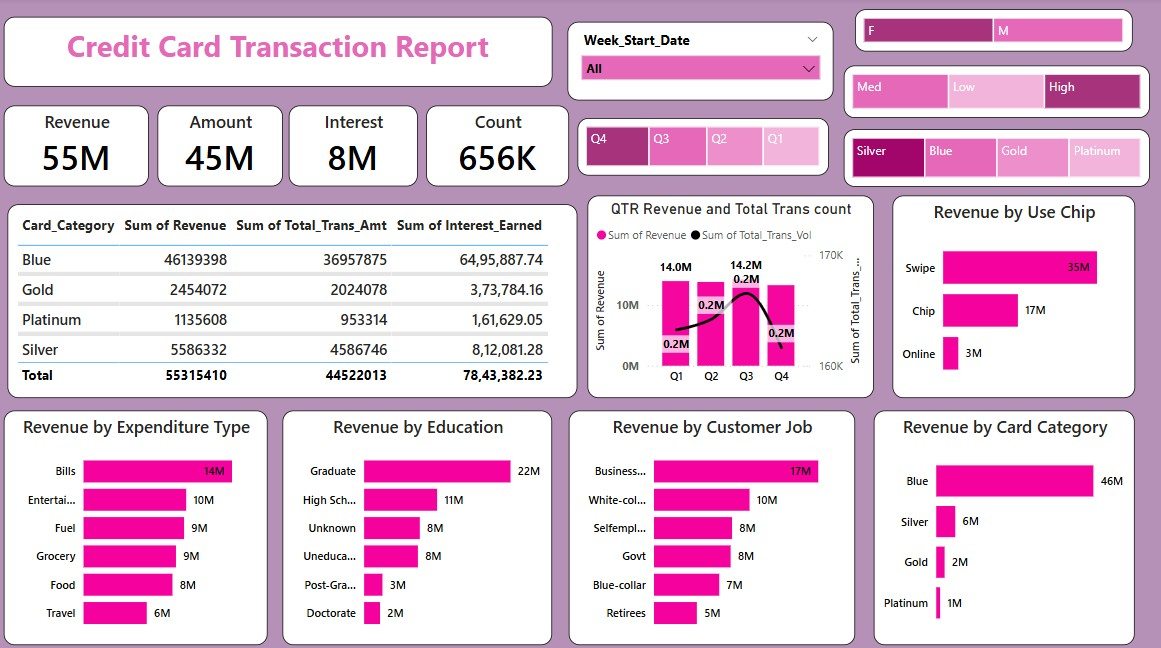

The dashboard page shown, as its layout file describes it:
{"tool":"powerbi","page":{"name":"CC Transaction","canvas":[1280,720],"ordinal":0},"visuals":[{"type":"textbox","box":[9.6,20.6,602.4,76.8],"z":0},{"type":"lineStackedColumnComboChart","title":"QTR Revenue and Total Trans count","fields":{"Category":["credit_card.Qtr"],"Y":["Sum(credit_card.Revenue)"],"Y2":["Sum(credit_card.Total_Trans_Vol)"]},"box":[650.4,216.8,314.2,222.3],"z":1000},{"type":"barChart","title":"Revenue by Expenditure Type","fields":{"Category":["credit_card.Exp Type"],"Y":["Sum(credit_card.Revenue)"]},"box":[9.6,452.8,289.5,258],"z":2000},{"type":"barChart","title":"Revenue by Education","fields":{"Category":["customer.Education_Level"],"Y":["Sum(credit_card.Revenue)"]},"box":[315.6,452.8,296.4,258],"z":3000},{"type":"barChart","title":"Revenue by Customer Job","fields":{"Category":["customer.Customer_Job"],"Y":["Sum(credit_card.Revenue)"]},"box":[629.8,452.8,314.2,258],"z":4000},{"type":"barChart","title":"Revenue by Card Category","fields":{"Category":["credit_card.Card_Category"],"Y":["Sum(credit_card.Revenue)"]},"box":[964.7,452.8,286.8,258],"z":5000},{"type":"barChart","title":"Revenue by Use Chip","fields":{"Category":["credit_card.Use Chip"],"Y":["Sum(credit_card.Revenue)"]},"box":[985.3,216.8,266.2,222.3],"z":6000},{"type":"tableEx","fields":{"Values":["credit_card.Card_Category","Sum(credit_card.Revenue)","Sum(credit_card.Total_Trans_Amt)","Sum(credit_card.Interest_Earned)"]},"box":[13.7,226.4,625.7,212.7],"z":7000},{"type":"card","title":"Revenue","fields":{"Values":["Sum(credit_card.Revenue)"]},"box":[9.6,118,159.2,89.2],"z":8000},{"type":"card","title":"Amount","fields":{"Values":["Sum(credit_card.Total_Trans_Amt)"]},"box":[178.4,118,137.2,89.2],"z":9000},{"type":"card","title":"Interest","fields":{"Values":["Sum(credit_card.Interest_Earned)"]},"box":[322.5,118,141.3,89.2],"z":10000},{"type":"card","title":"Count","fields":{"Values":["Sum(credit_card.Total_Trans_Vol)"]},"box":[473.4,118,156.4,89.2],"z":11000},{"type":"slicer","fields":{"Values":["credit_card.Week_Start_Date"]},"box":[628.5,26.1,292.3,86.4],"z":12000},{"type":"treemap","fields":{"Group":["credit_card.Qtr"],"Values":["Avg(credit_card.Client_Num)"]},"box":[639.5,131.7,275.8,63.1],"z":13000},{"type":"treemap","fields":{"Values":["Avg(credit_card.Client_Num)"],"Group":["customer.Gender"]},"box":[944.1,12.3,304.6,46.7],"z":14000},{"type":"treemap","fields":{"Group":["credit_card.Card_Category"],"Values":["Avg(credit_card.Client_Num)"]},"box":[931.7,144.1,336.2,63.1],"z":15000},{"type":"treemap","fields":{"Group":["customer.IncomeGroup"],"Values":["Avg(credit_card.Client_Num)"]},"box":[931.7,74.1,336.2,57.6],"z":16000}]}

Visuals, with their boxes in screenshot pixels (x1, y1, x2, y2), scaled from the page's 1280x720 canvas onto the 1161x648 screenshot:
textbox: bbox(9, 19, 555, 88)
"QTR Revenue and Total Trans count" lineStackedColumnComboChart: bbox(590, 195, 875, 395)
"Revenue by Expenditure Type" barChart: bbox(9, 408, 271, 640)
"Revenue by Education" barChart: bbox(286, 408, 555, 640)
"Revenue by Customer Job" barChart: bbox(571, 408, 856, 640)
"Revenue by Card Category" barChart: bbox(875, 408, 1135, 640)
"Revenue by Use Chip" barChart: bbox(894, 195, 1135, 395)
tableEx - credit_card.Card_Category x Sum(credit_card.Revenue): bbox(12, 204, 580, 395)
"Revenue" card: bbox(9, 106, 153, 186)
"Amount" card: bbox(162, 106, 286, 186)
"Interest" card: bbox(293, 106, 421, 186)
"Count" card: bbox(429, 106, 571, 186)
slicer - credit_card.Week_Start_Date: bbox(570, 23, 835, 101)
treemap - credit_card.Qtr x Avg(credit_card.Client_Num): bbox(580, 119, 830, 175)
treemap - Avg(credit_card.Client_Num) x customer.Gender: bbox(856, 11, 1133, 53)
treemap - credit_card.Card_Category x Avg(credit_card.Client_Num): bbox(845, 130, 1150, 186)
treemap - customer.IncomeGroup x Avg(credit_card.Client_Num): bbox(845, 67, 1150, 119)
